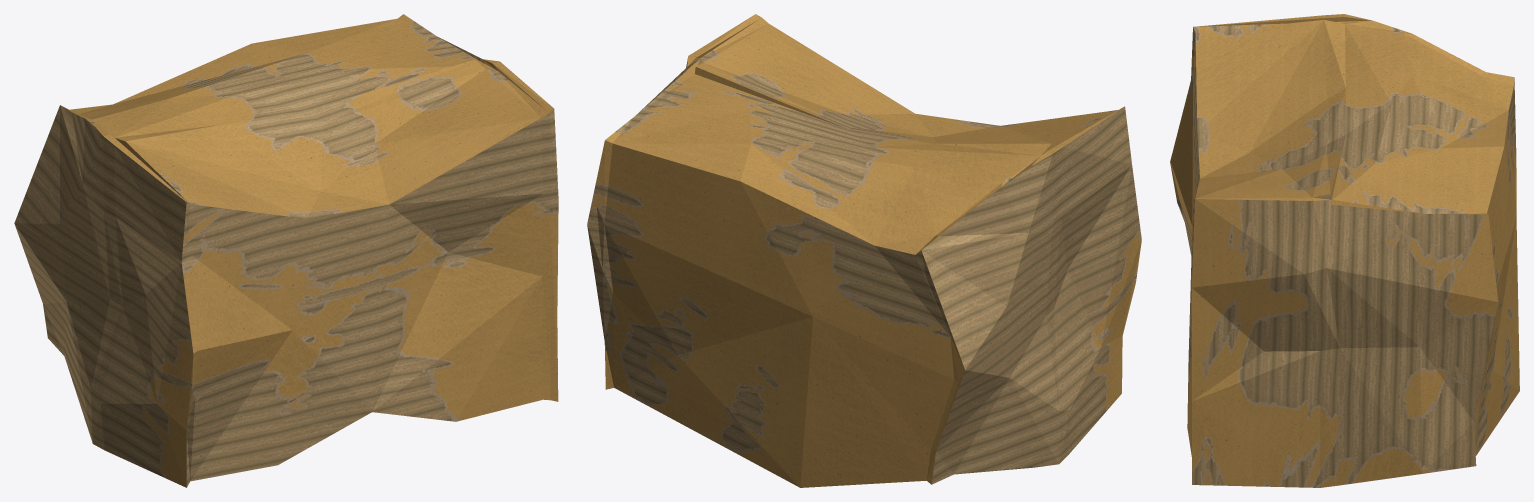
3 renders of one model, left to right at view 1: azimuth 30°, elevation 25°; view 2: azimuth 150°, elevation 25°; view 3: azimuth 270°, elevation 25°, orthographic. The views are drawn at different scales.
Parts seen in each view (by area): view 1: BOX; view 2: BOX; view 3: BOX.
Boxes of the visible parts, box(x1,y1,x2,y2) form: BOX: box(14, 14, 558, 487); BOX: box(587, 14, 1141, 487); BOX: box(1170, 14, 1519, 487).
Size of the model in its own units: 2.77 by 2.04 by 2.15.
1 material, 1 textured.
